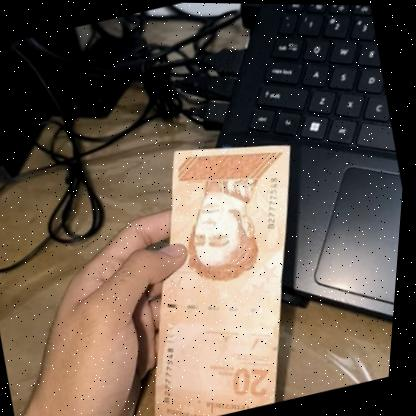twenty-front-vef: (100, 121, 354, 416)
